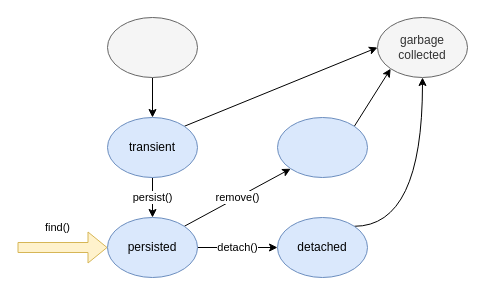
Image size: 485x295. Some labels were removed from this diagram. Each missing label, with the box of its shape:
new: (106, 16, 198, 78)
removed: (276, 116, 368, 178)
